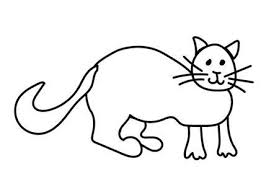cat: (8, 22, 258, 168)
